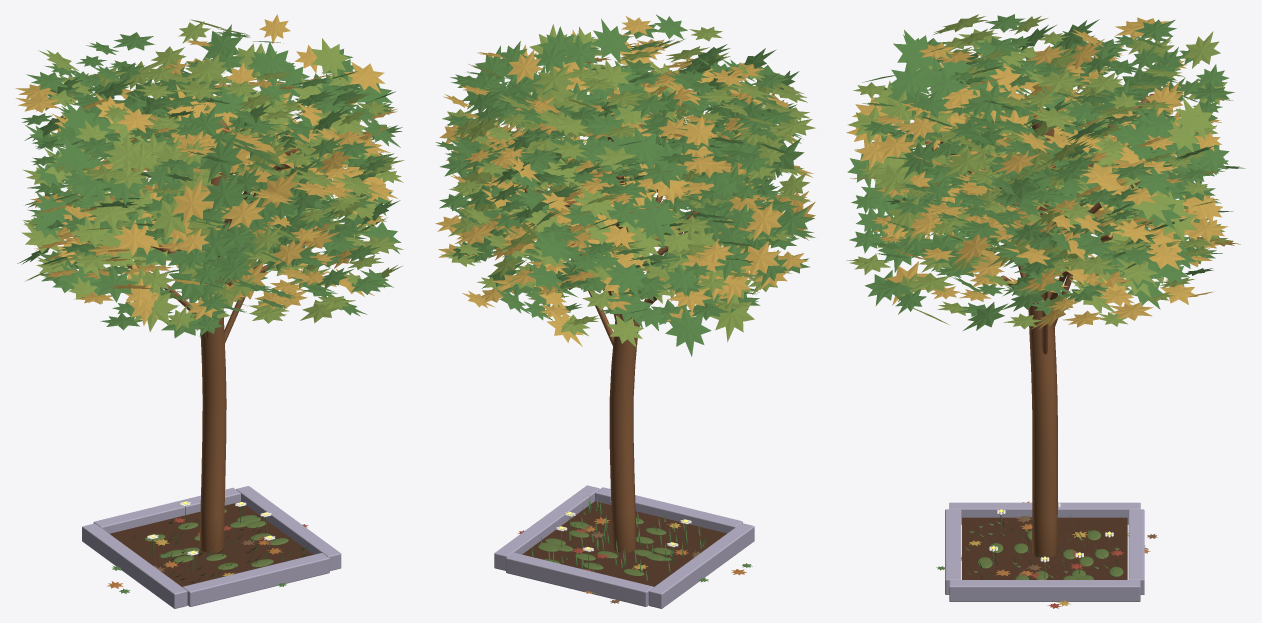
Rendered from tree_2.glb.
3 renders of one model, left to right at view 1: azimuth 30°, elevation 25°; view 2: azimuth 150°, elevation 25°; view 3: azimuth 270°, elevation 25°, orthographic. The views are drawn at different scales.
Visible parts, largest first — view 1: Textured_soil, Trunk, Pit_border.003, Pit_border, Pit_border.001, Pit_border.002, Maple_leaf.819, Maple_leaf.237, Maple_leaf.310, Maple_leaf.974, Maple_leaf.1044, Maple_leaf.379 (+17 smaller); view 2: Textured_soil, Trunk, Pit_border.002, Pit_border, Pit_border.001, Pit_border.003, Maple_leaf.762, Maple_leaf.451, Maple_leaf.050, Maple_leaf.554, Maple_leaf.376, Maple_leaf.119 (+19 smaller); view 3: Textured_soil, Trunk, Pit_border.001, Pit_border, Pit_border.003, Pit_border.002, Maple_leaf.619, Maple_leaf.479, Maple_leaf.684, Maple_leaf.648, Maple_leaf.674, Maple_leaf.1080 (+12 smaller).
Boxes of the visible parts, <box> form: Textured_soil: <box>109,502,313,586</box>; Trunk: <box>199,118,229,552</box>; Pit_border.003: <box>182,553,329,606</box>; Pit_border: <box>82,523,187,608</box>; Pit_border.001: <box>236,486,341,570</box>; Pit_border.002: <box>93,488,240,533</box>; Maple_leaf.819: <box>198,133,243,182</box>; Maple_leaf.237: <box>171,178,213,226</box>; Maple_leaf.310: <box>249,41,295,90</box>; Maple_leaf.974: <box>202,171,245,213</box>; Maple_leaf.1044: <box>149,191,191,241</box>; Maple_leaf.379: <box>54,135,93,179</box>; Textured_soil: <box>522,501,726,586</box>; Trunk: <box>607,114,640,552</box>; Pit_border.002: <box>506,552,653,606</box>; Pit_border: <box>648,523,754,608</box>; Pit_border.001: <box>494,485,599,570</box>; Pit_border.003: <box>595,487,742,533</box>; Maple_leaf.762: <box>632,196,678,247</box>; Maple_leaf.451: <box>665,305,711,356</box>; Maple_leaf.050: <box>621,127,664,168</box>; Maple_leaf.554: <box>591,18,631,63</box>; Maple_leaf.376: <box>710,296,754,341</box>; Maple_leaf.119: <box>605,259,647,298</box>; Textured_soil: <box>962,517,1127,579</box>; Trunk: <box>1028,116,1057,557</box>; Pit_border.001: <box>949,580,1140,601</box>; Pit_border: <box>949,502,1140,524</box>; Pit_border.003: <box>945,509,961,594</box>; Pit_border.002: <box>1128,509,1144,594</box>; Maple_leaf.619: <box>888,59,932,96</box>; Maple_leaf.479: <box>893,30,932,70</box>; Maple_leaf.684: <box>1174,96,1215,140</box>; Maple_leaf.648: <box>874,161,917,198</box>; Maple_leaf.674: <box>901,139,940,179</box>; Maple_leaf.1080: <box>1183,31,1220,68</box>.
Bounding box in the file's own units: 3.02 × 4.04 × 2.99.
